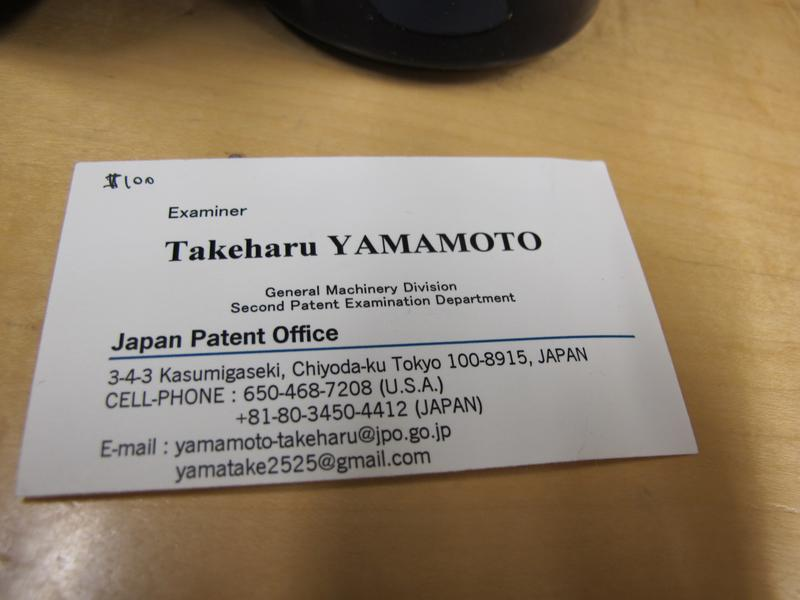card: (24, 152, 704, 497)
